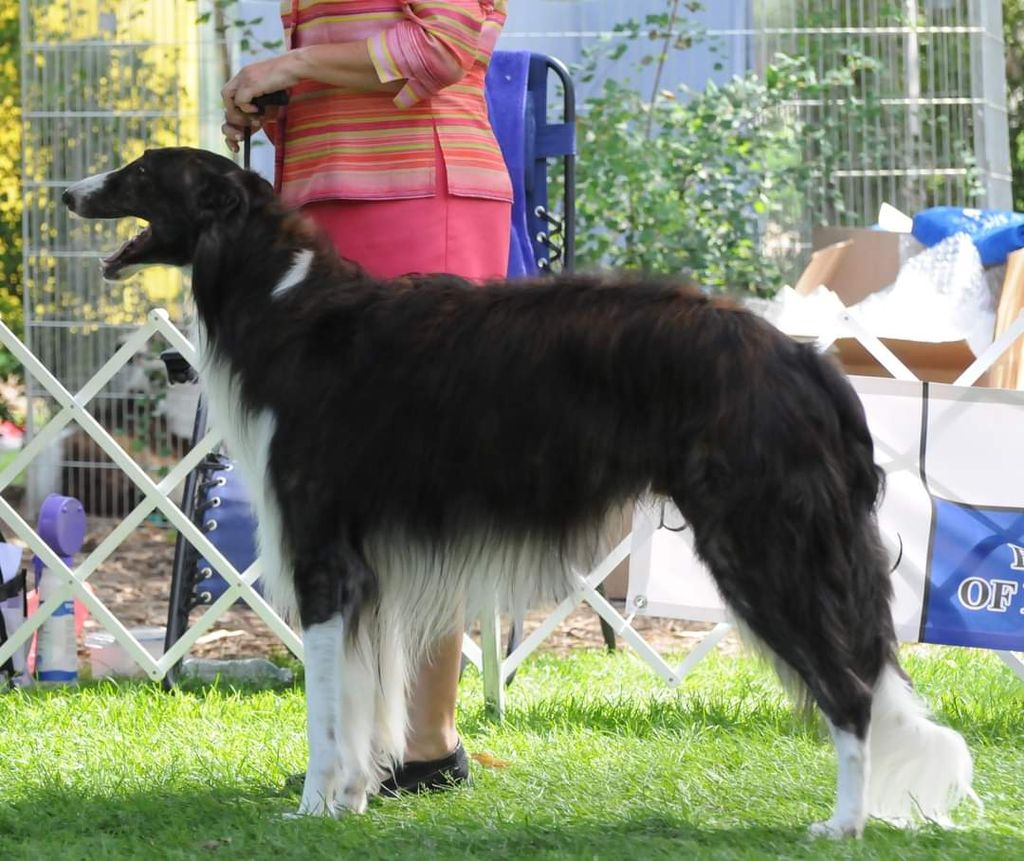borzoi: (40, 124, 1001, 849)
